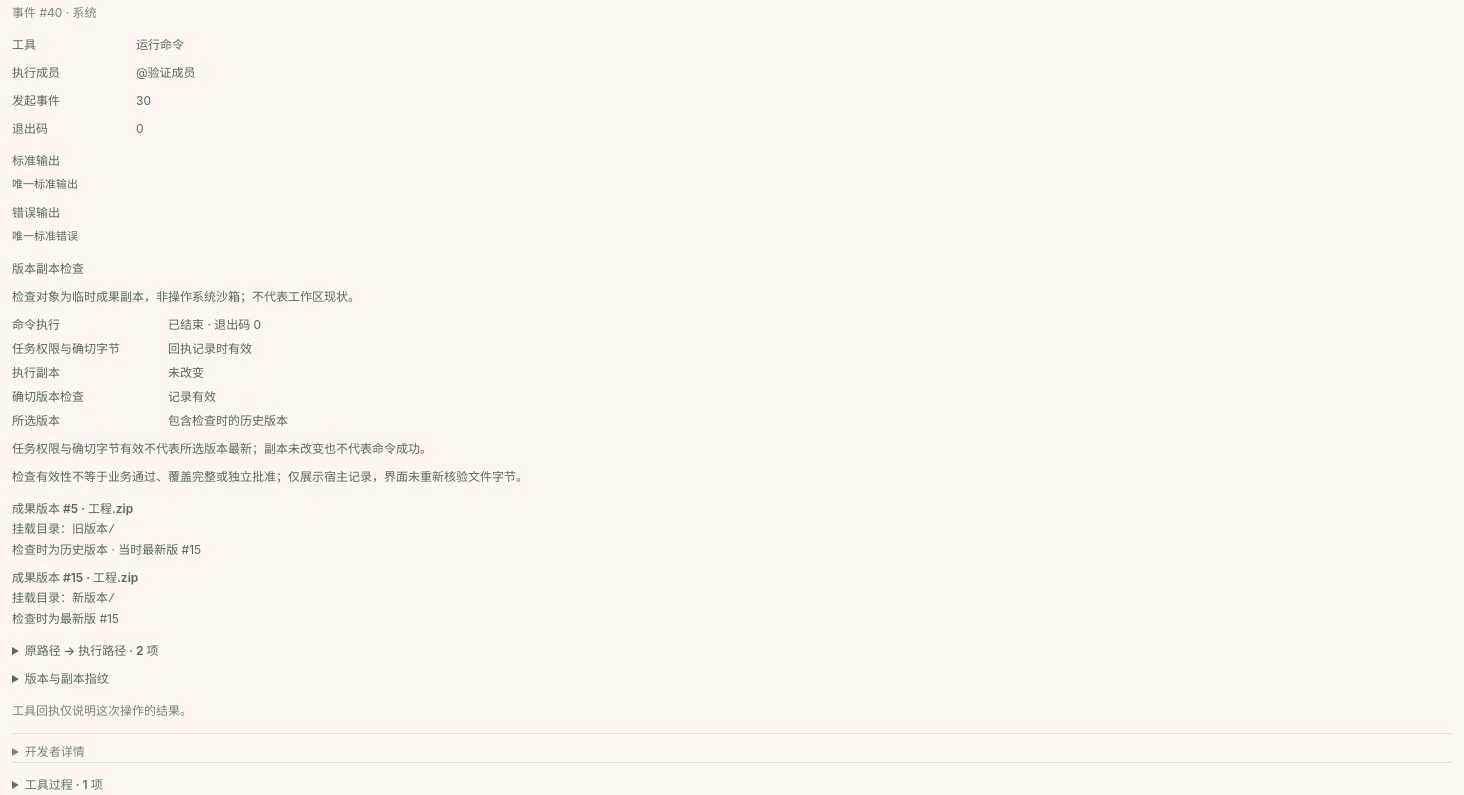
it: 既有事件与工具过程都能查看版本详情，默认折叠且不重复输出
The image size is (1464, 795).
Expected: the number of elements "标准输出" is 1, x1=12 y1=153 x2=78 y2=191
Expected: the number of elements "错误输出" is 1, x1=12 y1=205 x2=78 y2=243
Click the heading "工具过程 · 1 项". click: (64, 784)
box: x1=25 y1=777 x2=103 y2=792
(page scrolled)
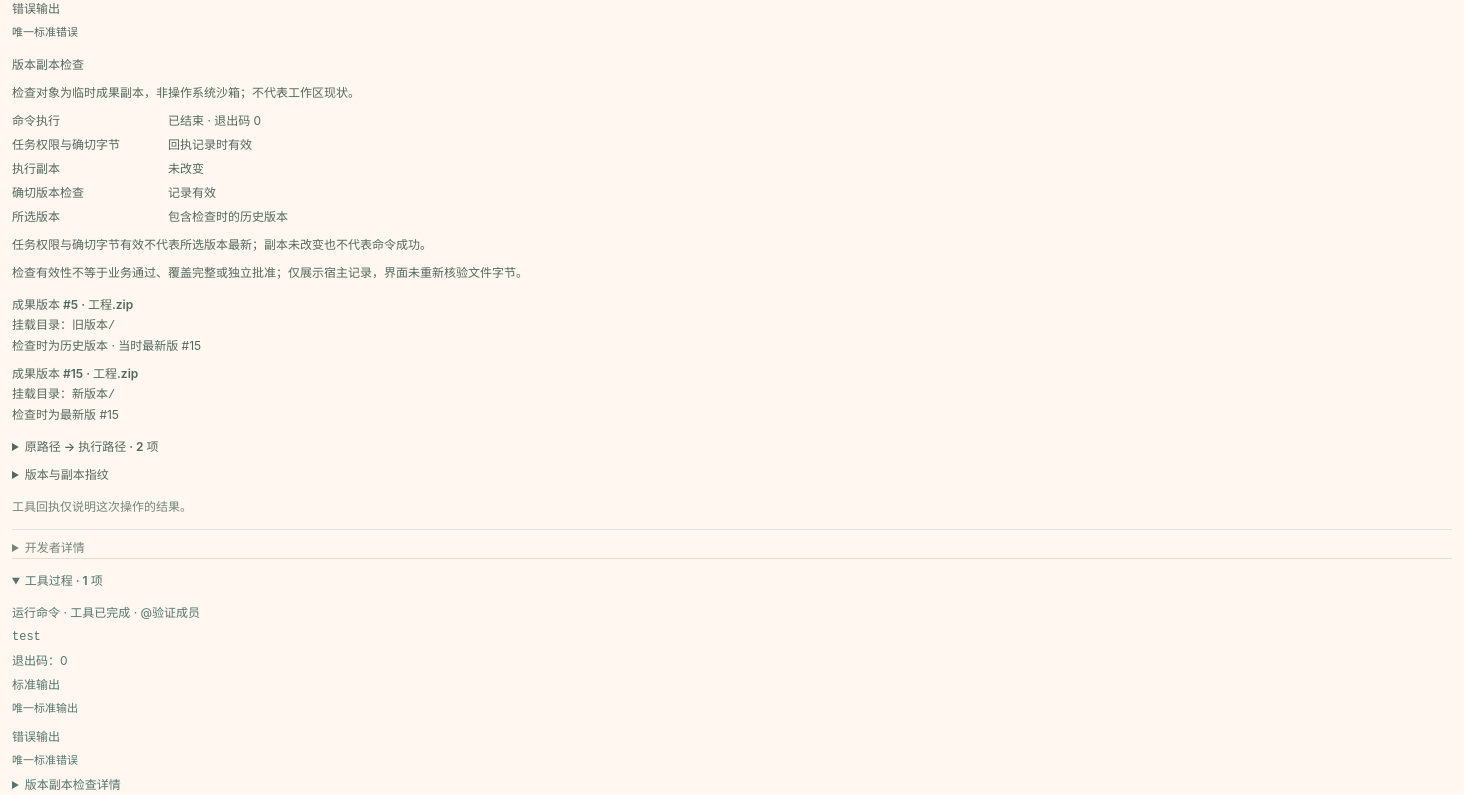
Click the heading "版本副本检查详情". click: (73, 784)
box: x1=25 y1=777 x2=121 y2=792
(page scrolled)
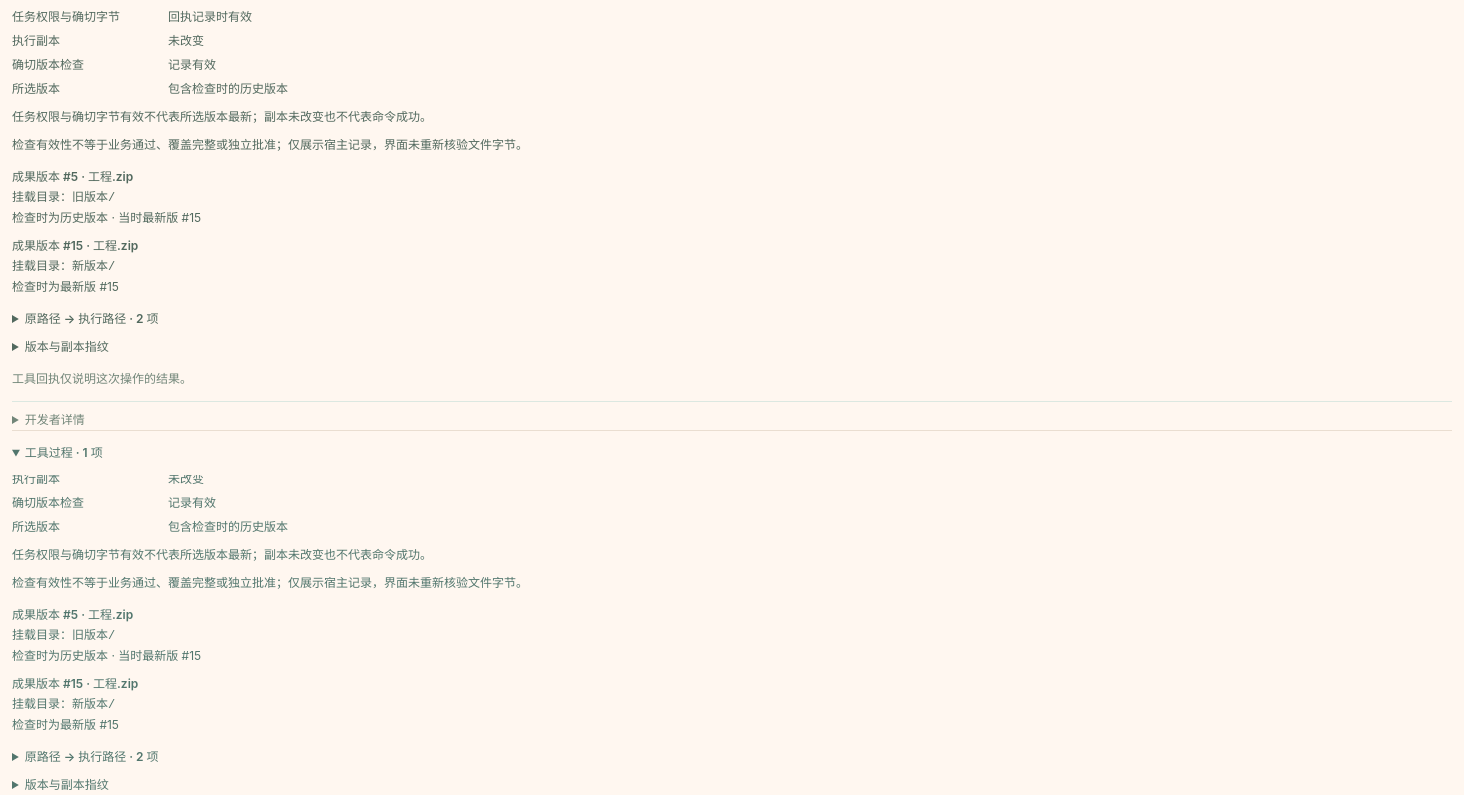
Expected: the number of elements named "版本副本检查回执" is 1, x1=12 y1=475 x2=528 y2=792
Expected: the list named "版本与挂载目录" shows "旧版本/", x1=12 y1=607 x2=201 y2=732
